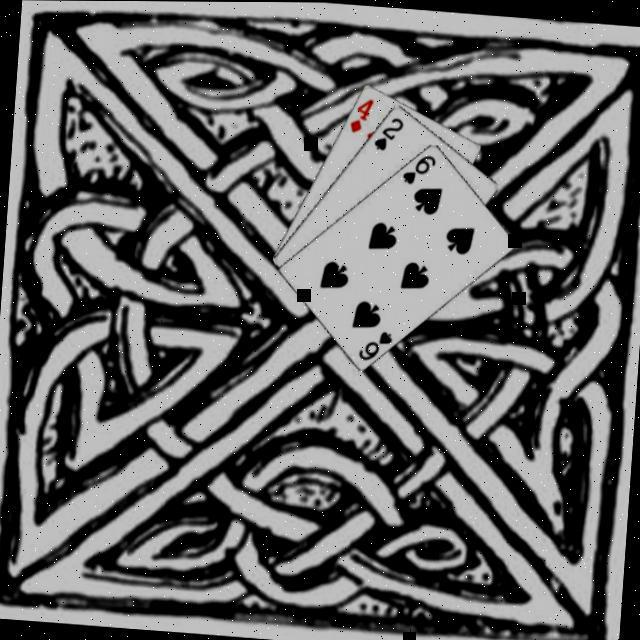2S: (372, 114, 408, 156)
4D: (347, 95, 378, 137)
6S: (400, 150, 440, 190), (356, 326, 396, 365)
